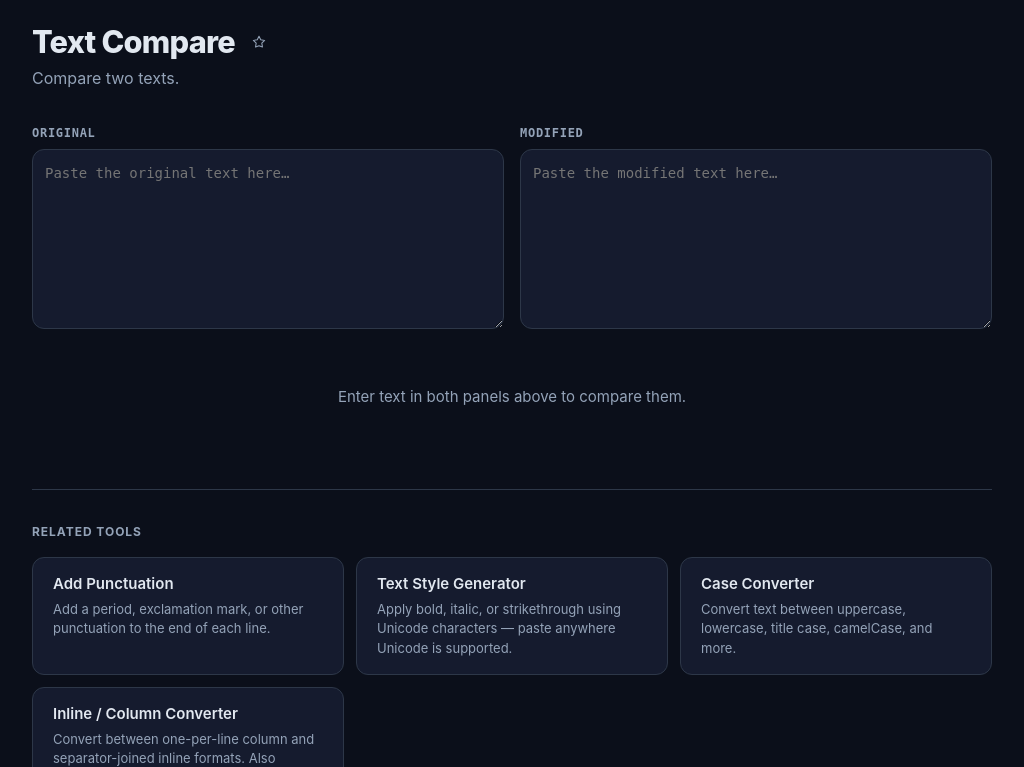
Test: TextCompare › shows diff output when texts differ
The width and height of the screenshot is (1024, 767).
Type "hello" into the text box labelled "Paste the original text here…" at (268, 239), box [32, 149, 504, 329]
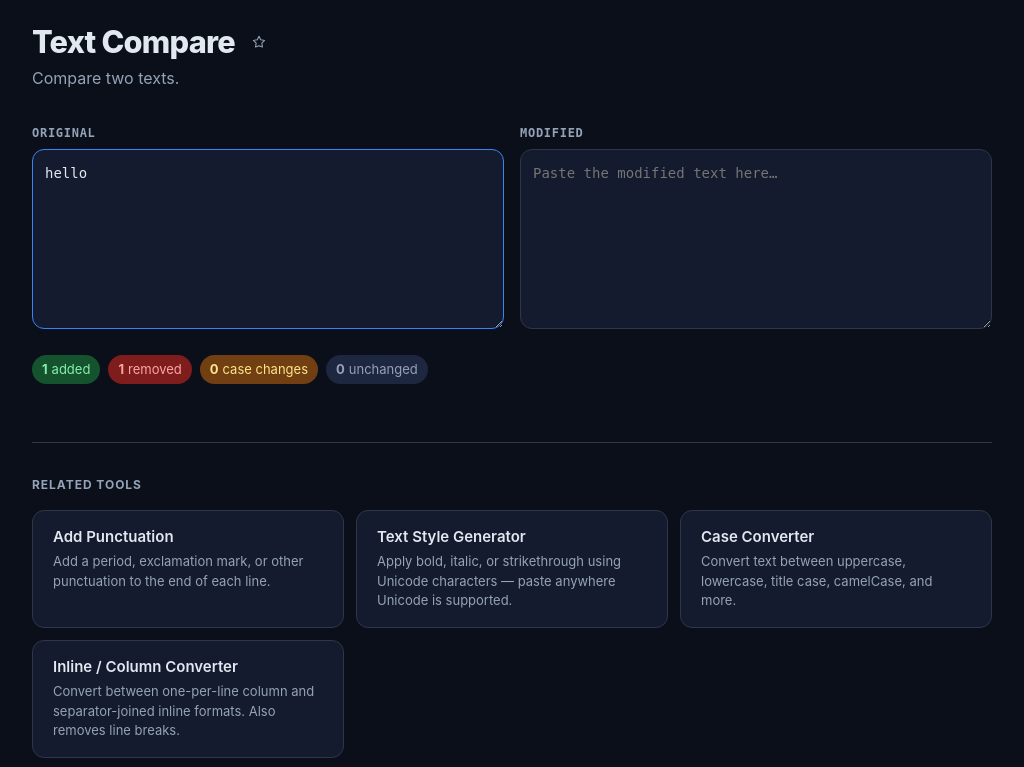
Type "world" into the text box labelled "Paste the modified text here…" at (756, 239), box [520, 149, 992, 329]
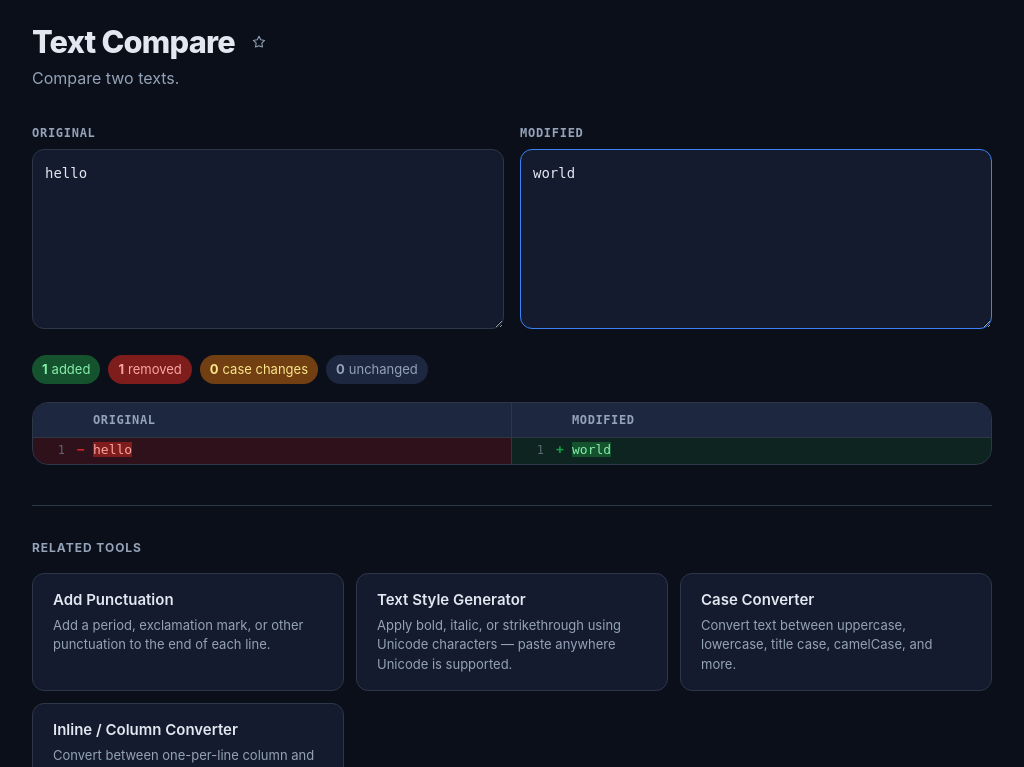
Expected: the element named "diff output" is shown, [32, 402, 992, 465]
